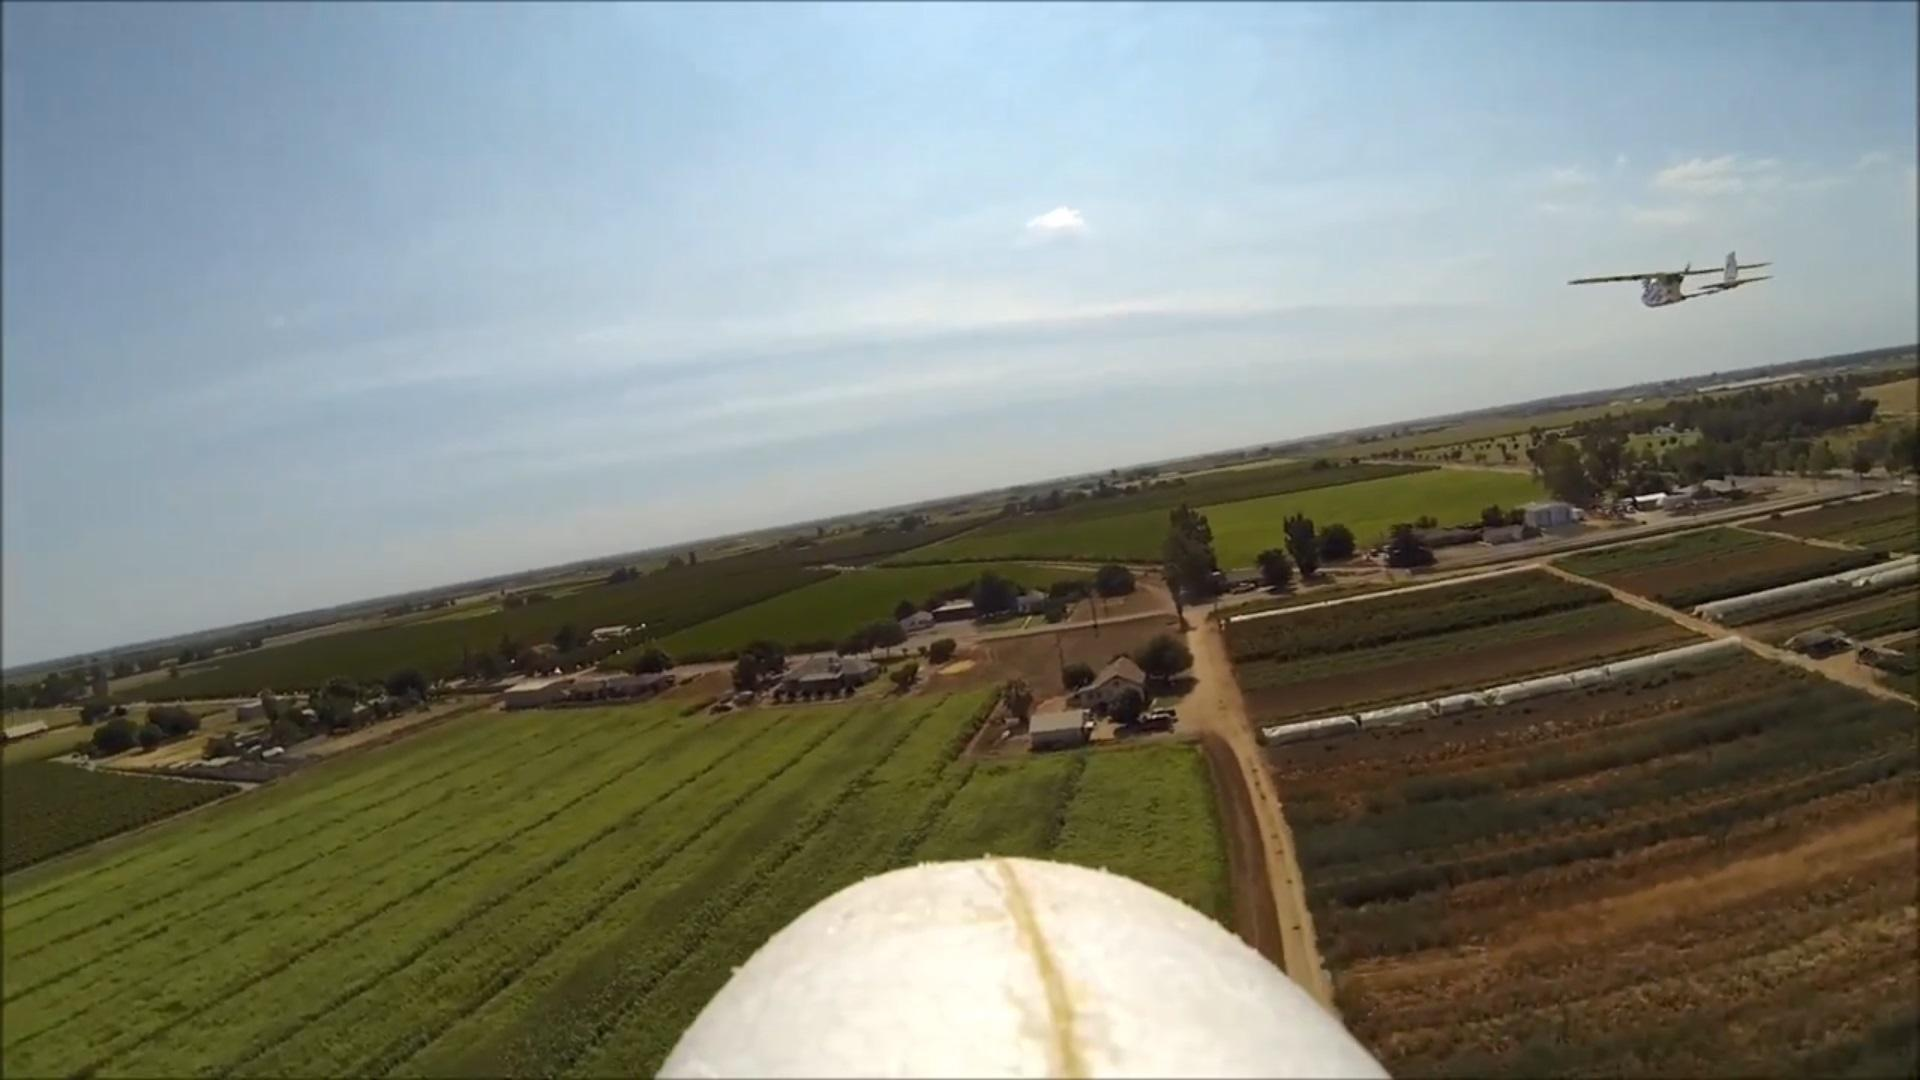Airplane: (1545, 225, 1783, 342)
